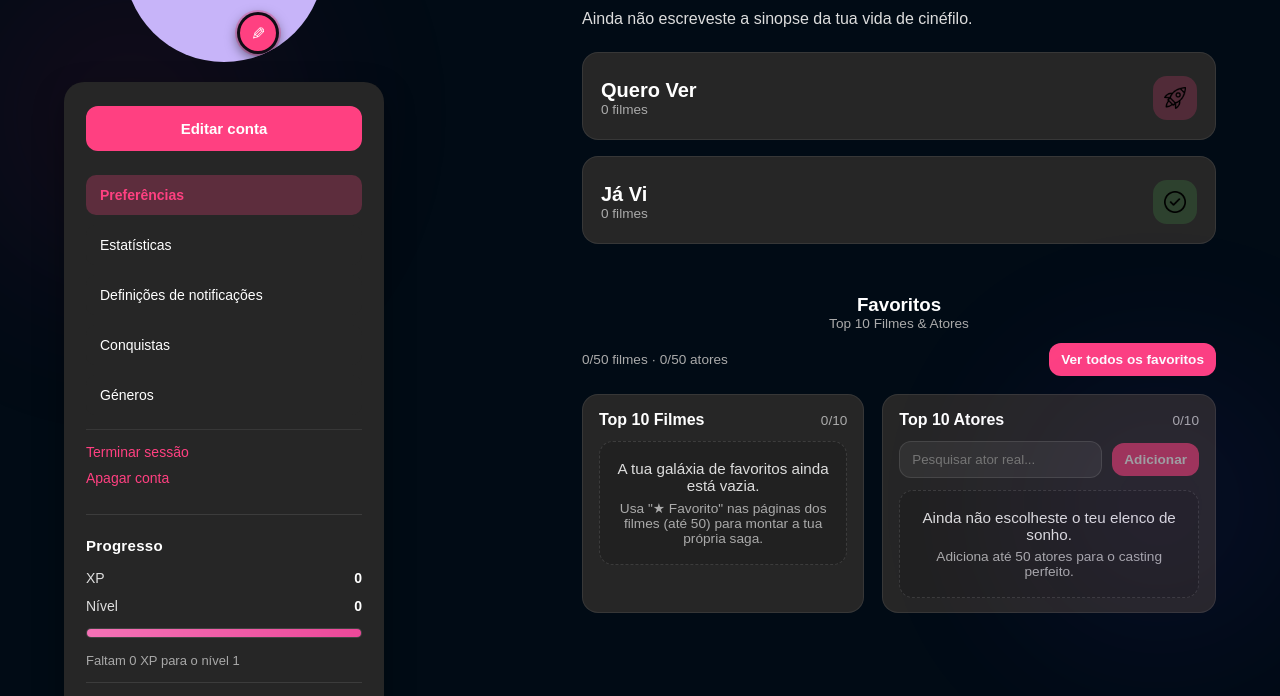
Test: Medals › should display empty medals state when user has no medals
(page scrolled)
Click the list item "Conquistas" at [224, 345], box 86,325 -> 362,365
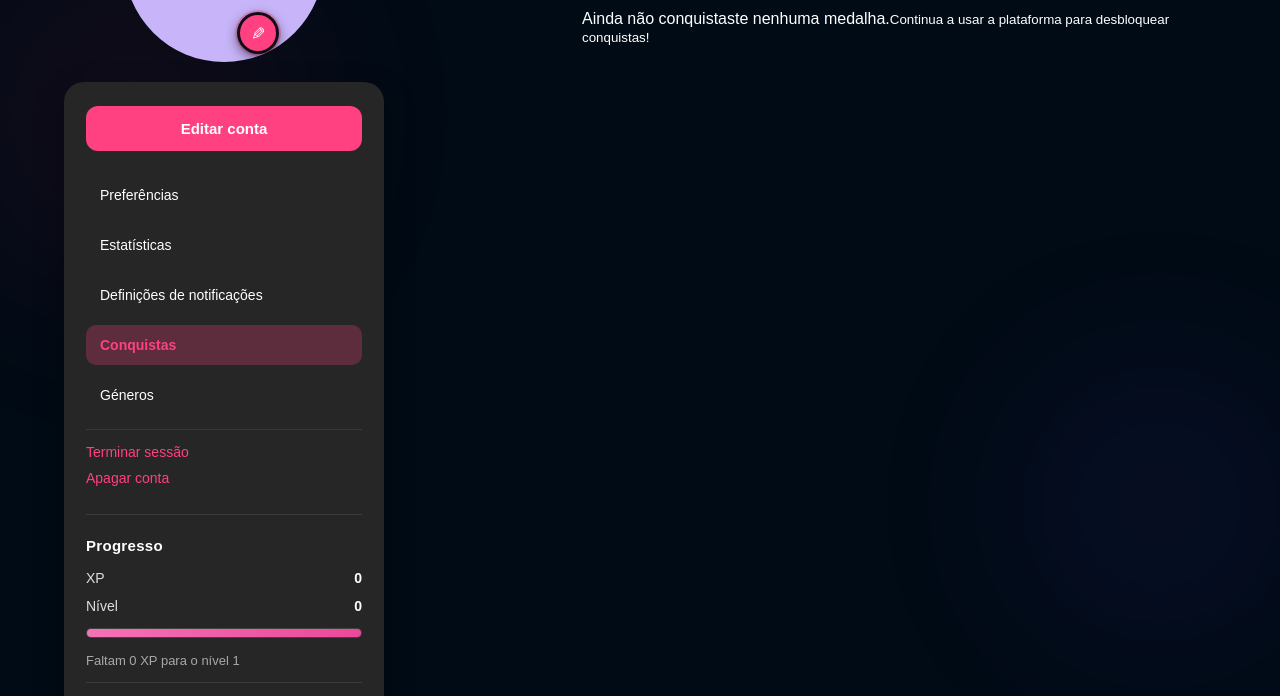
Expected: the text "Ainda não conquistaste nenhuma medalha." is shown, 582,10 -> 890,27
Expected: the text "Continua a usar a plataforma para desbloquear conquistas!" is shown, 582,12 -> 1169,45
